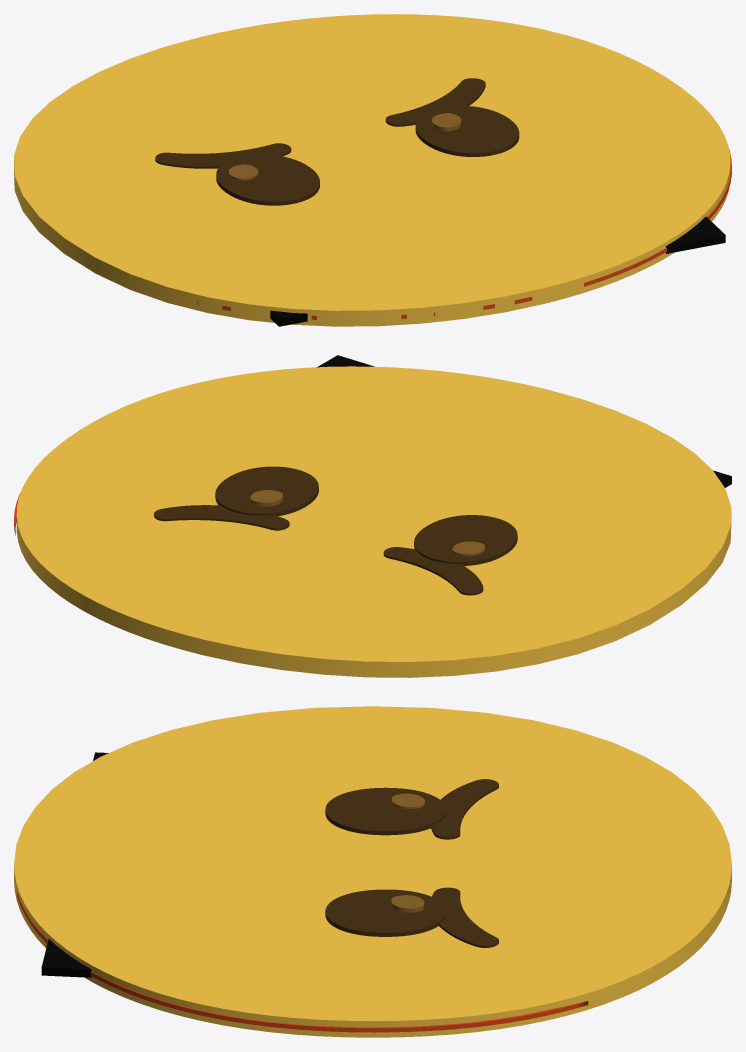
File: emoji_u1f92c.glb
The picture shows the model from 3 angles, top to bottom: view 1: azimuth 30°, elevation 25°; view 2: azimuth 150°, elevation 25°; view 3: azimuth 270°, elevation 25°; orthographic projection. The views are drawn at different scales.
Visible parts, largest first — view 1: emoji_u1f92c; view 2: emoji_u1f92c; view 3: emoji_u1f92c.
Boxes of the visible parts, x1,y1,x2,y2 form: emoji_u1f92c: [14, 14, 731, 326]; emoji_u1f92c: [14, 355, 731, 677]; emoji_u1f92c: [14, 706, 731, 1037].
Bounding box in the file's own units: 0.0327 × 0.0016 × 0.0315.
